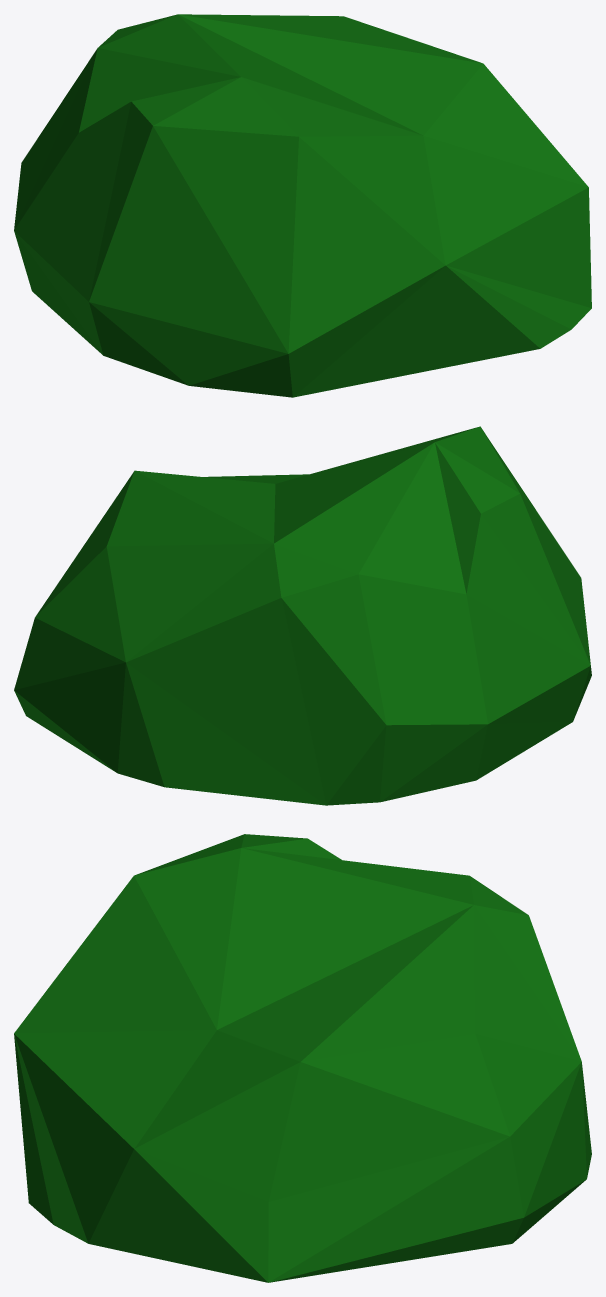
File: hard_beanbag_3.fbx
The picture shows the model from 3 angles, top to bottom: view 1: azimuth 30°, elevation 25°; view 2: azimuth 150°, elevation 25°; view 3: azimuth 270°, elevation 25°; orthographic projection. The views are drawn at different scales.
Parts seen in each view (by area): view 1: hard_beanbag_3; view 2: hard_beanbag_3; view 3: hard_beanbag_3.
Part boxes in pixels (x1=…): hard_beanbag_3: x1=14, y1=14, x2=591, y2=397; hard_beanbag_3: x1=14, y1=426, x2=591, y2=805; hard_beanbag_3: x1=14, y1=834, x2=591, y2=1282.
Bounding box in the file's own units: 5.52 × 2.55 × 5.23.
